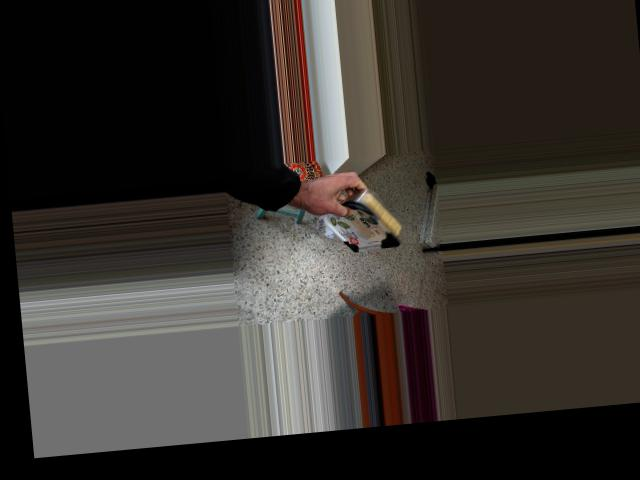cheese: (322, 160, 424, 278)
